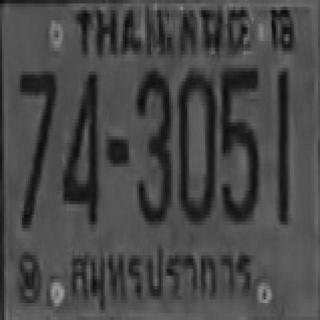N00: (177, 70, 213, 220)
N01: (276, 68, 288, 221)
N03: (135, 68, 171, 221)
N04: (60, 68, 99, 221)
N05: (219, 65, 258, 221)
N07: (18, 68, 54, 225)
P57: (65, 238, 262, 314)
